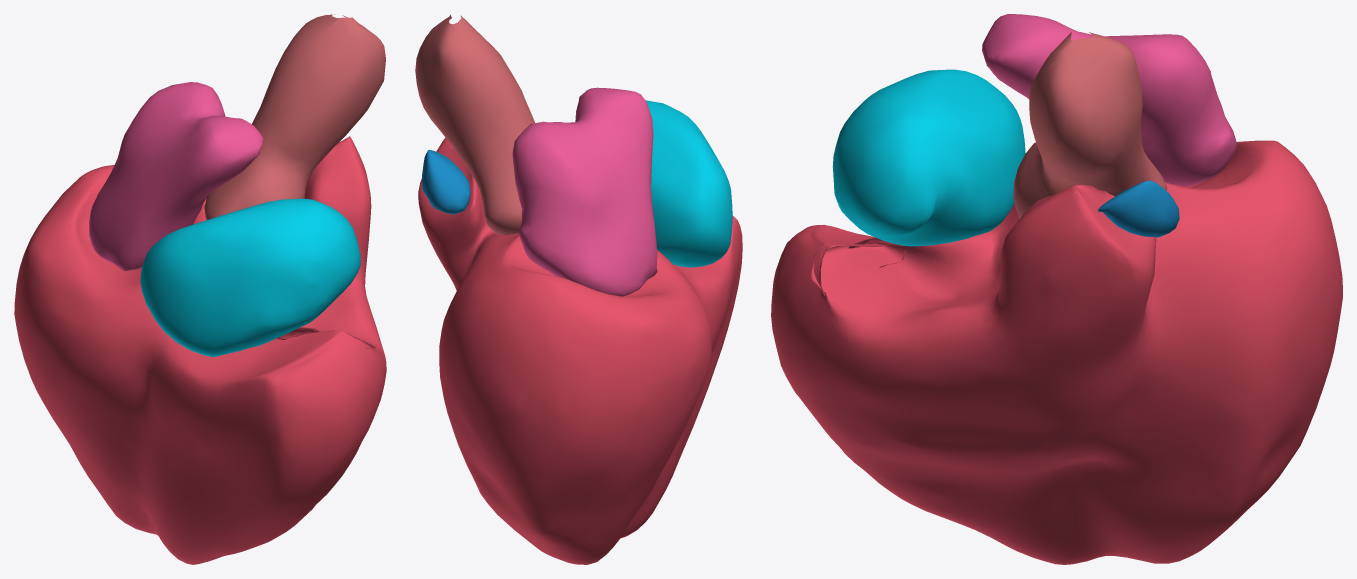
The model's file is frame_47.glb.
3 views of the same model, side by side, from view 1: azimuth 30°, elevation 25°; view 2: azimuth 150°, elevation 25°; view 3: azimuth 270°, elevation 25° (orthographic). The views are drawn at different scales.
Visible parts, largest first — view 1: Renderer Node; view 2: Renderer Node; view 3: Renderer Node.
Boxes of the visible parts, left/top/right/bottom form: Renderer Node: left=14, top=14, right=386, bottom=564; Renderer Node: left=415, top=14, right=742, bottom=564; Renderer Node: left=771, top=14, right=1342, bottom=564.
Size of the model in its own units: 106 by 162 by 133.
